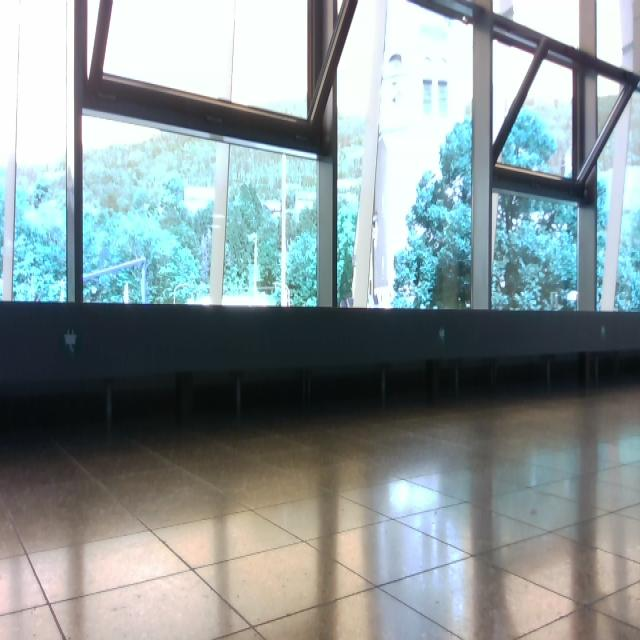light bulb: (184, 185, 215, 214), (389, 480, 411, 512), (64, 329, 78, 353), (550, 292, 559, 309), (567, 291, 578, 303)
tiled floor: (2, 381, 639, 638)
window: (1, 1, 640, 314)
